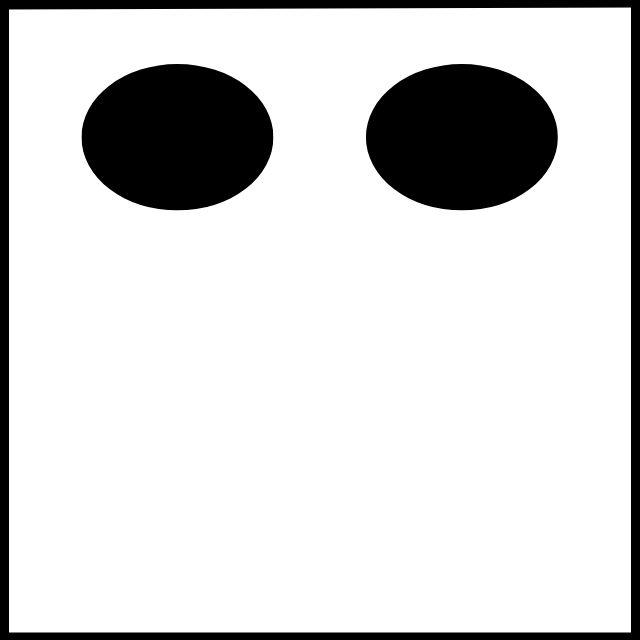kaniya: (79, 62, 557, 577)
